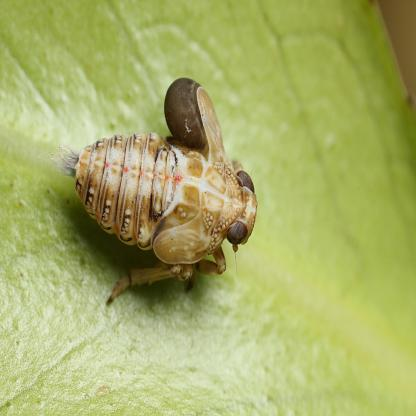brown-planthopper: (65, 76, 259, 282)
